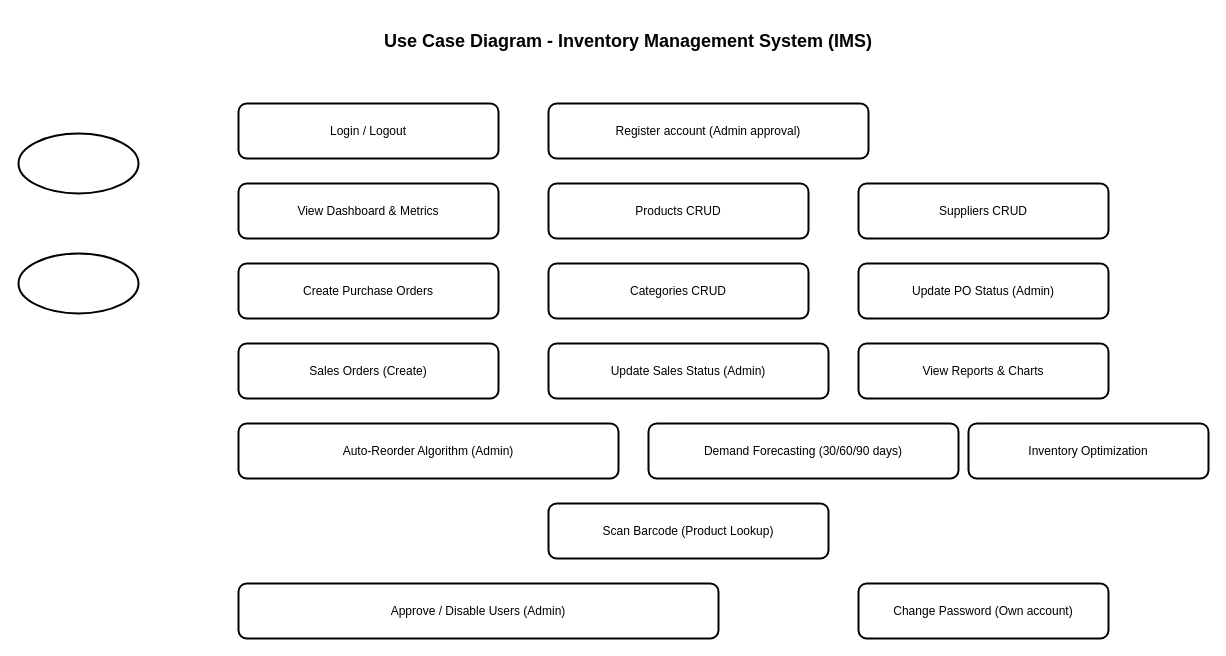
This 1226x656 diagram has some shape labels left out. Here are the shapes that lost their labels. From the top down, the centre of each, then its label:
At point (78, 163): "Admin".
At point (78, 283): "Staff".
